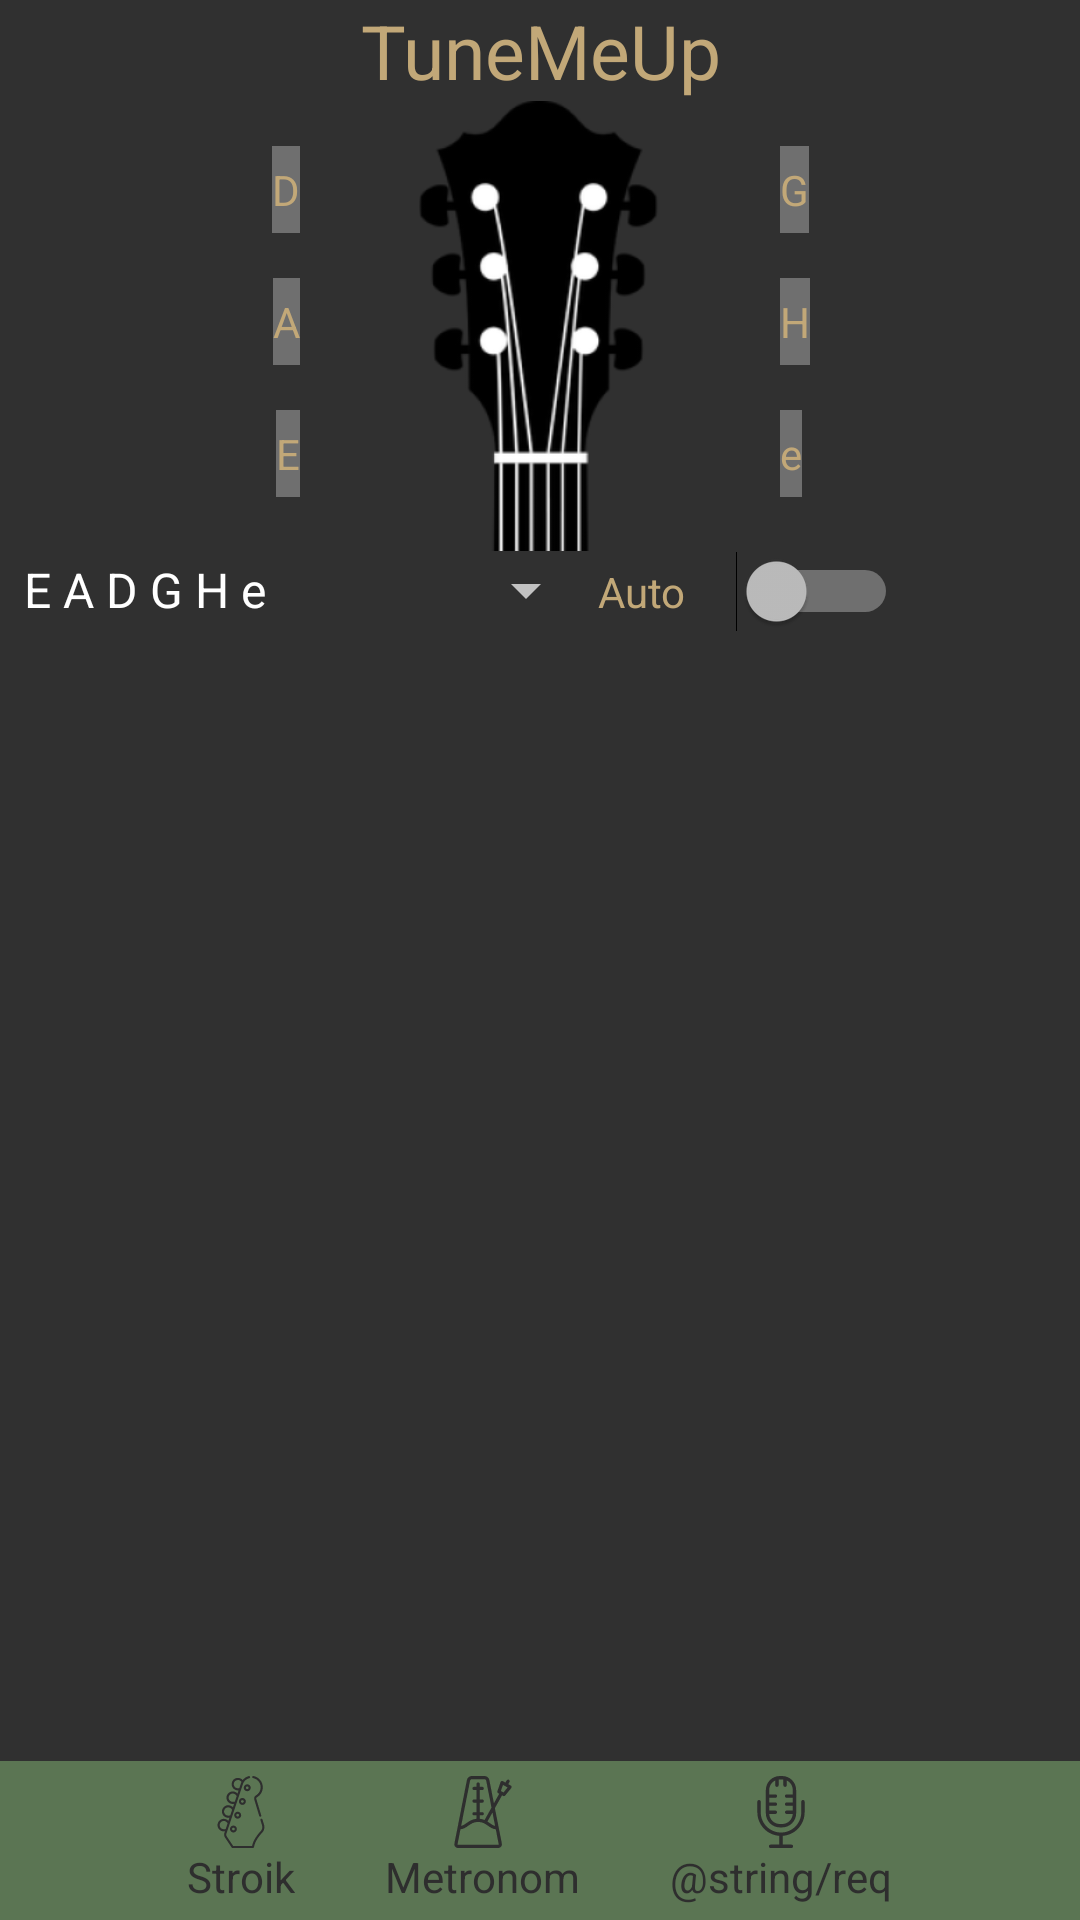

Named icons in this screenshot (1080×1920) and their centers, (x=x, y=y):
microphone: (x=781, y=1812)
